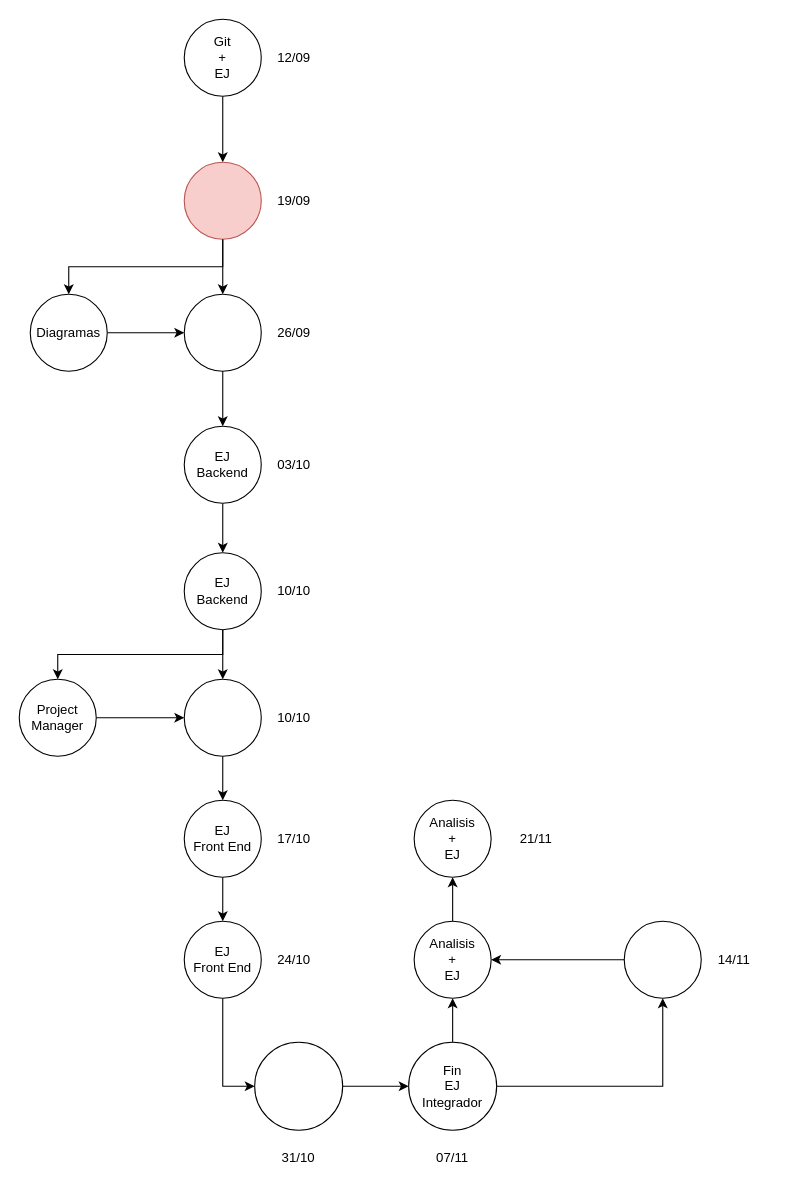
This 787x1194 diagram has some shape labels left out. Each missing label, with the box of its shape:
HTTP + Backend: (183, 293, 261, 371)
HTTP + Front End: (183, 678, 261, 756)
Integraciones: (254, 1041, 343, 1130)
No hay Clase: (183, 161, 261, 239)
QA: (623, 920, 701, 998)
